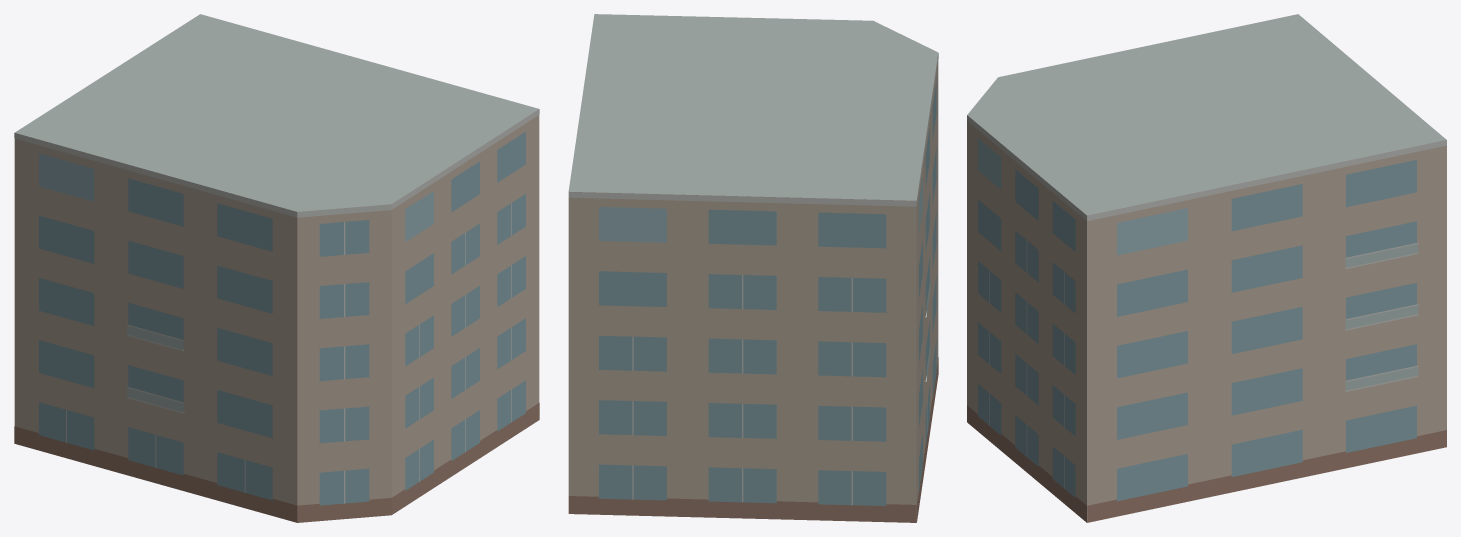
Rendered from survey-upis-32891431.glb.
3 views of the same model, side by side, from view 1: azimuth 30°, elevation 25°; view 2: azimuth 150°, elevation 25°; view 3: azimuth 270°, elevation 25° (orthographic). The views are drawn at different scales.
Parts seen in each view (by area): view 1: survey-upis-32891431.tmp; view 2: survey-upis-32891431.tmp; view 3: survey-upis-32891431.tmp.
Part boxes in pixels (left/top/right/bottom): survey-upis-32891431.tmp: left=14, top=14, right=539, bottom=522; survey-upis-32891431.tmp: left=568, top=14, right=938, bottom=522; survey-upis-32891431.tmp: left=967, top=14, right=1446, bottom=522.
Size of the model in its own units: 18.58 by 13.2 by 18.69.
